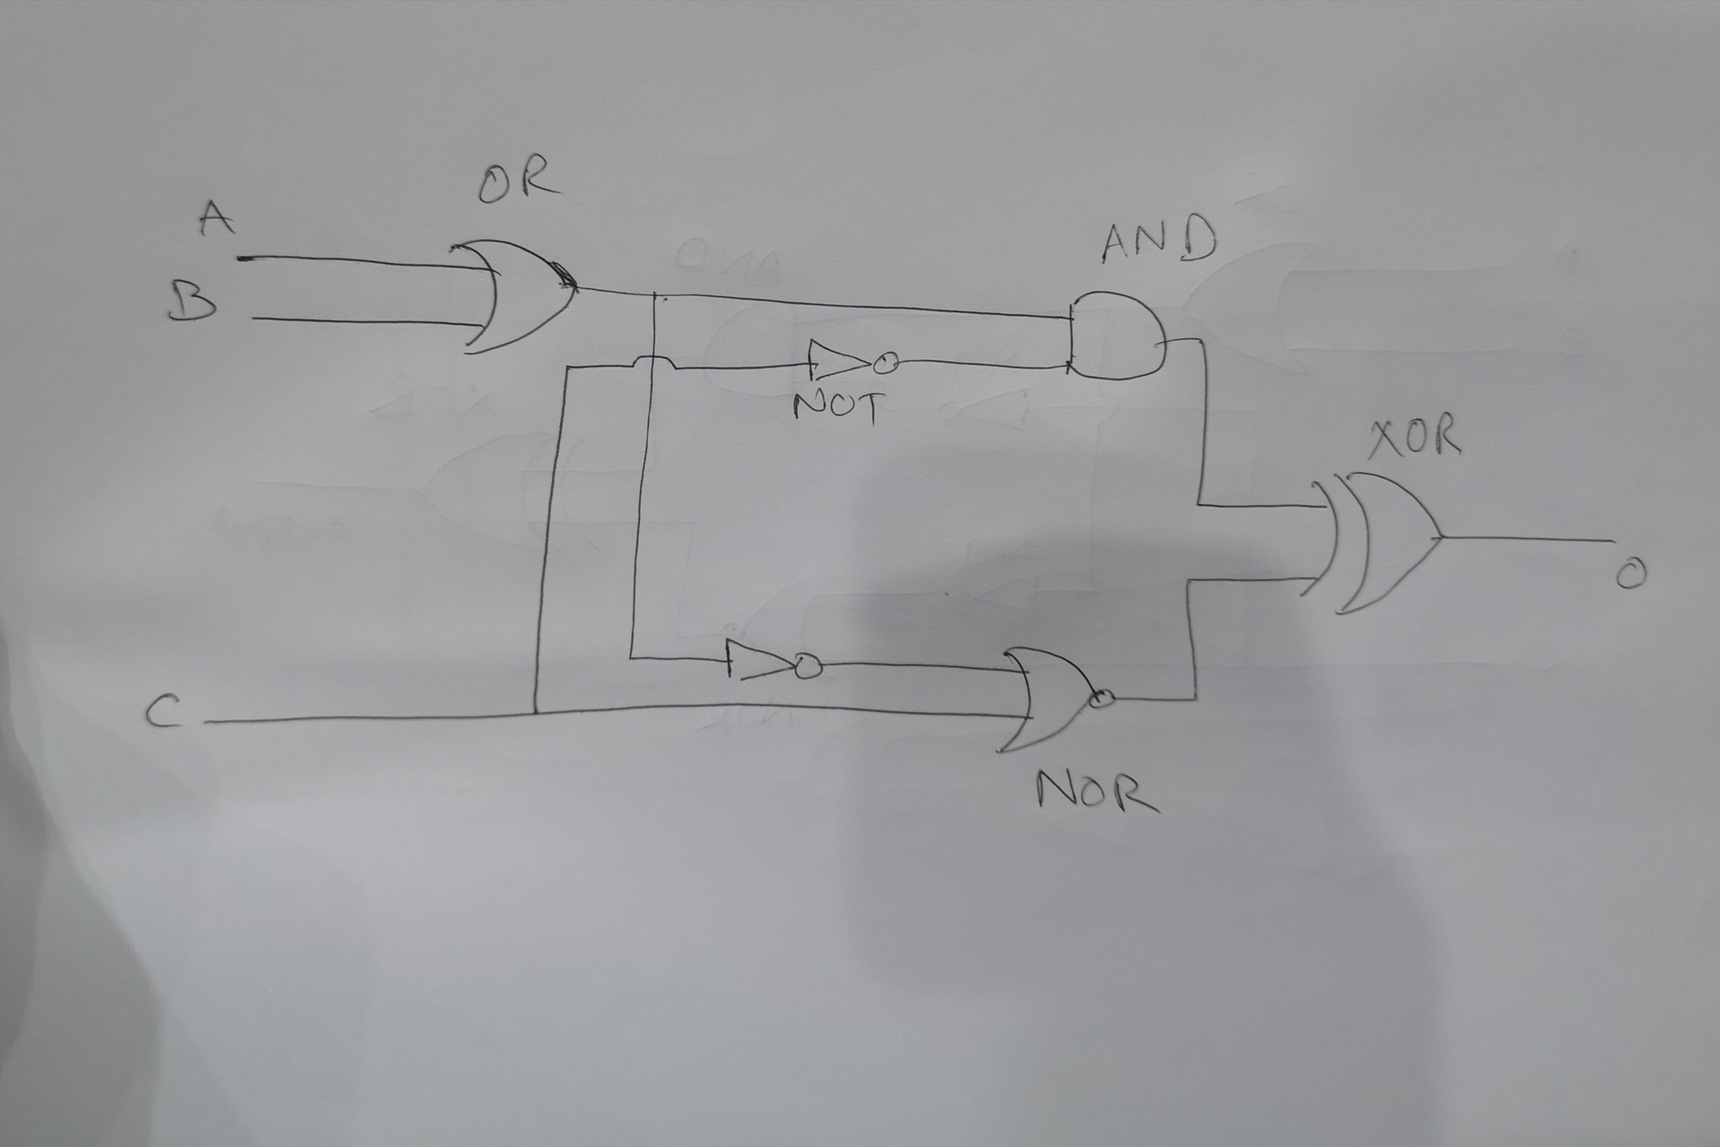and: (1062, 287, 1170, 384)
crossover: (627, 349, 678, 375)
junction: (1184, 686, 1208, 708), (1191, 330, 1213, 351), (1180, 571, 1200, 591), (1189, 493, 1209, 513), (559, 357, 577, 379), (525, 702, 544, 721), (622, 649, 640, 667), (648, 285, 664, 303)
nor: (991, 639, 1120, 757)
not: (715, 630, 832, 687), (802, 333, 904, 384)
or: (445, 230, 584, 361)
terminal: (227, 245, 250, 271), (1598, 529, 1624, 550), (243, 309, 262, 326), (198, 714, 212, 730)
text: (1031, 760, 1165, 821), (1098, 211, 1223, 268), (474, 150, 568, 207), (1369, 410, 1470, 462), (790, 385, 889, 429), (163, 271, 221, 323), (195, 196, 241, 246), (142, 686, 191, 731), (1610, 552, 1651, 595)
xor: (1293, 469, 1451, 621)
